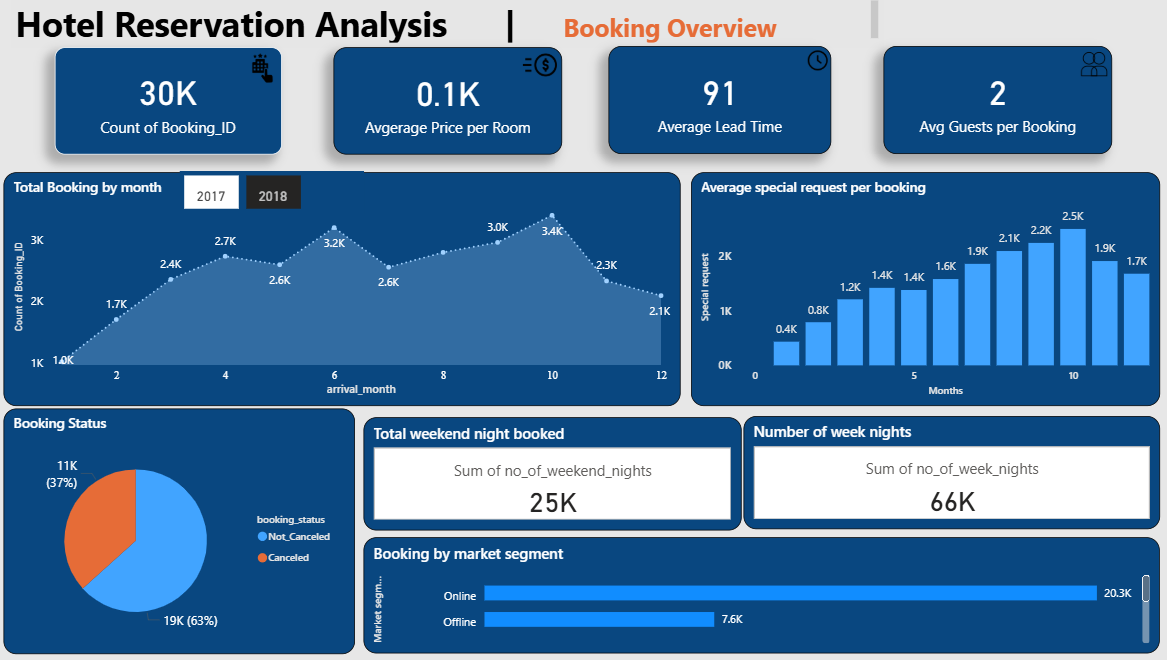

The page's visual inventory and layout, read from the dashboard file:
{"tool":"powerbi","page":{"name":"Booking","canvas":[1280,720],"ordinal":0},"visuals":[{"type":"textbox","box":[26.9,0,942.8,55],"z":0},{"type":"card","fields":{"Values":["CountNonNull(Hotel Reservation Analysis.Booking_ID)"]},"box":[74.6,55,245.8,116.2],"z":1000},{"type":"card","fields":{"Values":["Hotel Reservation Analysis.Avgerage Price per Room"]},"box":[375.4,55,247,116.2],"z":2000},{"type":"image","box":[531.9,51.4,132.1,46.5],"z":3000},{"type":"card","fields":{"Values":["Hotel Reservation Analysis.Average Lead Time"]},"box":[673.4,54.4,240.5,116.5],"z":4000},{"type":"image","box":[867.1,54.4,63.3,31.6],"z":5000},{"type":"card","fields":{"Values":["Hotel Reservation Analysis.Avg Guests per Booking"]},"box":[969.6,54.4,246.8,116.5],"z":6000},{"type":"image","box":[258,55,81.9,45.2],"z":7000},{"type":"lineChart","title":"Total Booking by month","fields":{"Category":["Hotel Reservation Analysis.arrival_month"],"Y":["CountNonNull(Hotel Reservation Analysis.Booking_ID)"]},"box":[19,189.9,731.6,253.2],"z":8000},{"type":"advancedSlicerVisual","fields":{"Values":["Hotel Reservation Analysis.arrival_year"]},"box":[209.1,189.5,199.3,46.5],"z":9000},{"type":"image","box":[1116.5,54.4,153.2,39.2],"z":10000},{"type":"image","box":[1126.6,54.4,153.2,39.2],"z":11000},{"type":"pieChart","title":"Booking Status","fields":{"Y":["CountNonNull(Hotel Reservation Analysis.Booking_ID)"],"Category":["Hotel Reservation Analysis.booking_status"]},"box":[19.6,446.3,380.3,265.4],"z":12000},{"type":"columnChart","title":"Average special request per booking","fields":{"Y":["Sum(Hotel Reservation Analysis.no_of_special_requests)"],"Category":["Hotel Reservation Analysis.arrival_month"]},"box":[762,189.9,507.6,253.2],"z":13000},{"type":"cardVisual","title":"Total weekend night booked  ","fields":{"Data":["Sum(Hotel Reservation Analysis.no_of_weekend_nights)"]},"box":[408.4,454.9,408.4,122.3],"z":14000},{"type":"cardVisual","title":"Number of week nights","fields":{"Data":["Sum(Hotel Reservation Analysis.no_of_week_nights)"]},"box":[819,454.4,450.6,122.8],"z":15000},{"type":"clusteredBarChart","title":"Booking by market segment","fields":{"Category":["Hotel Reservation Analysis.market_segment_type"],"Y":["CountNonNull(Hotel Reservation Analysis.Booking_ID)"]},"box":[408.4,585.7,860.9,126],"z":16000}]}

Visuals, with their boxes in screenshot pixels (x1, y1, x2, y2), scaled from the page's 1280x720 canvas onto the 1167x660 screenshot:
textbox: x1=25, y1=0, x2=884, y2=50
card - CountNonNull(Hotel Reservation Analysis.Booking_ID): x1=68, y1=50, x2=292, y2=157
card - Hotel Reservation Analysis.Avgerage Price per Room: x1=342, y1=50, x2=567, y2=157
image: x1=485, y1=47, x2=605, y2=90
card - Hotel Reservation Analysis.Average Lead Time: x1=614, y1=50, x2=833, y2=157
image: x1=791, y1=50, x2=848, y2=79
card - Hotel Reservation Analysis.Avg Guests per Booking: x1=884, y1=50, x2=1109, y2=157
image: x1=235, y1=50, x2=310, y2=92
"Total Booking by month" lineChart: x1=17, y1=174, x2=684, y2=406
advancedSlicerVisual - Hotel Reservation Analysis.arrival_year: x1=191, y1=174, x2=372, y2=216
image: x1=1018, y1=50, x2=1158, y2=86
image: x1=1027, y1=50, x2=1166, y2=86
"Booking Status" pieChart: x1=18, y1=409, x2=365, y2=652
"Average special request per booking" columnChart: x1=695, y1=174, x2=1158, y2=406
"Total weekend night booked  " cardVisual: x1=372, y1=417, x2=745, y2=529
"Number of week nights" cardVisual: x1=747, y1=417, x2=1158, y2=529
"Booking by market segment" clusteredBarChart: x1=372, y1=537, x2=1157, y2=652
